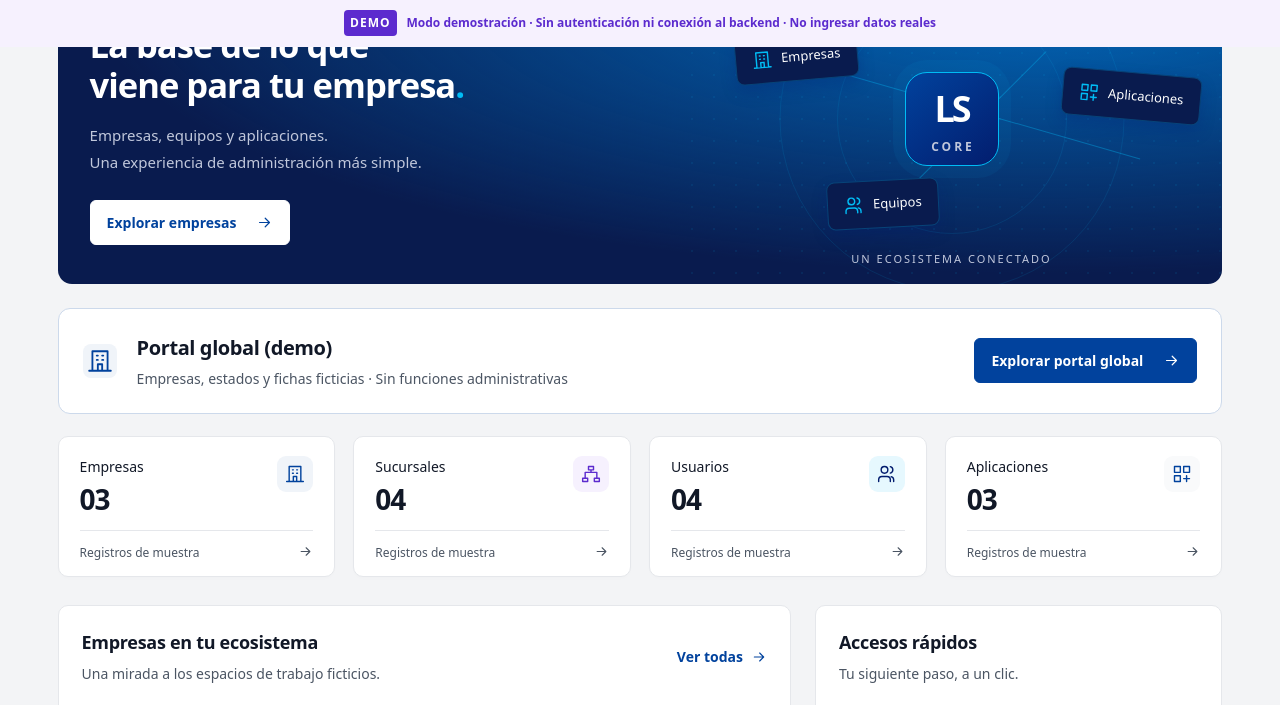
Scenario: Global portal visual preview › opens from Dashboard, preserves the navigation and reports fixture counts and unavailable data
The width and height of the screenshot is (1280, 705).
(page scrolled)
Click the button "Explorar portal global" at (1086, 361), box [974,338,1197,383]
(page scrolled)
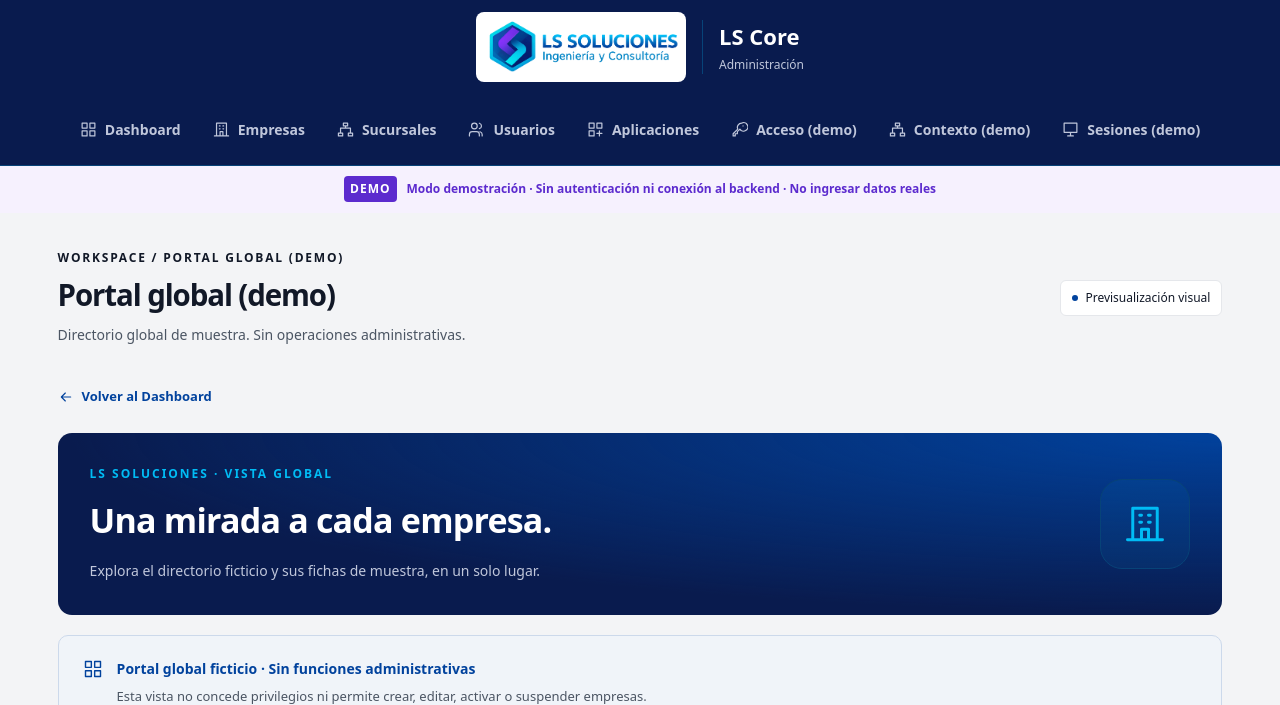
Check: the text "Modo demostración · Sin autenticación ni conexión al backend · No ingresar datos reales" is shown, box [406,180,936,197]
Check: the text "Portal global ficticio · Sin funciones administrativas" is shown, box [117,659,476,678]
Click the button "Volver al Dashboard" at (135, 397), box [58,375,212,419]
(page scrolled)
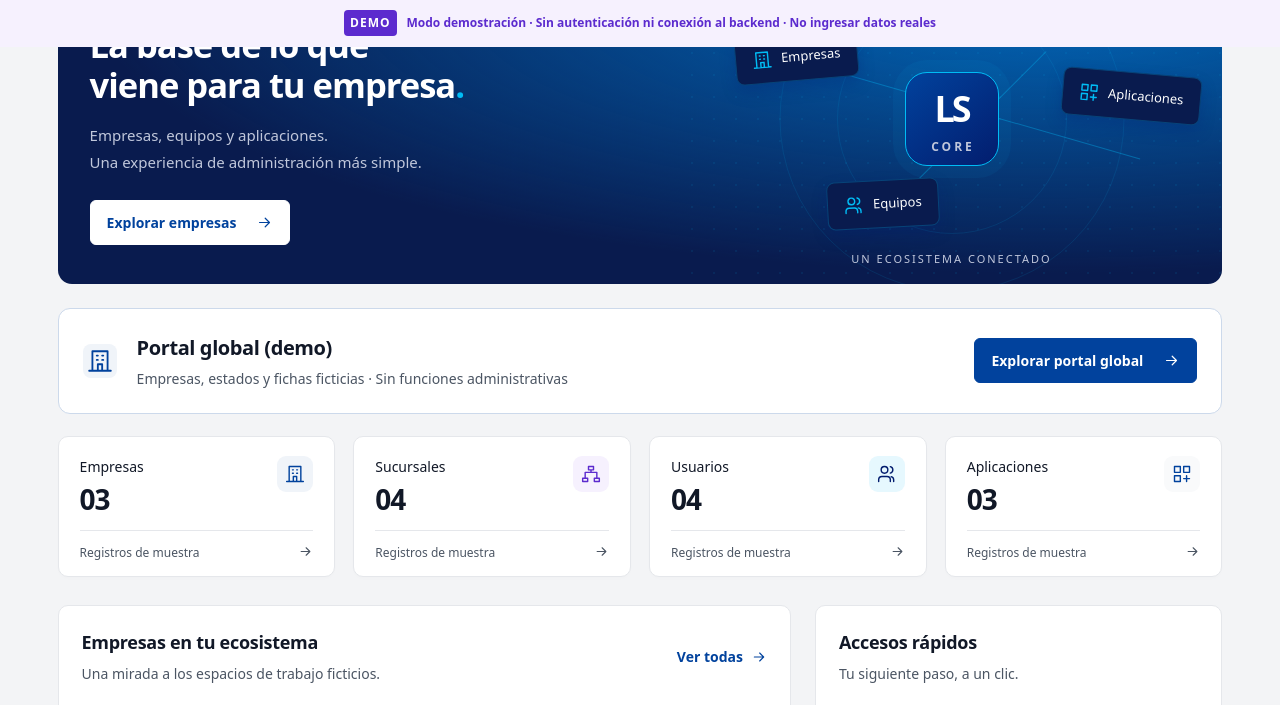
Check: the button "Explorar portal global" is shown, box [974,338,1197,383]
